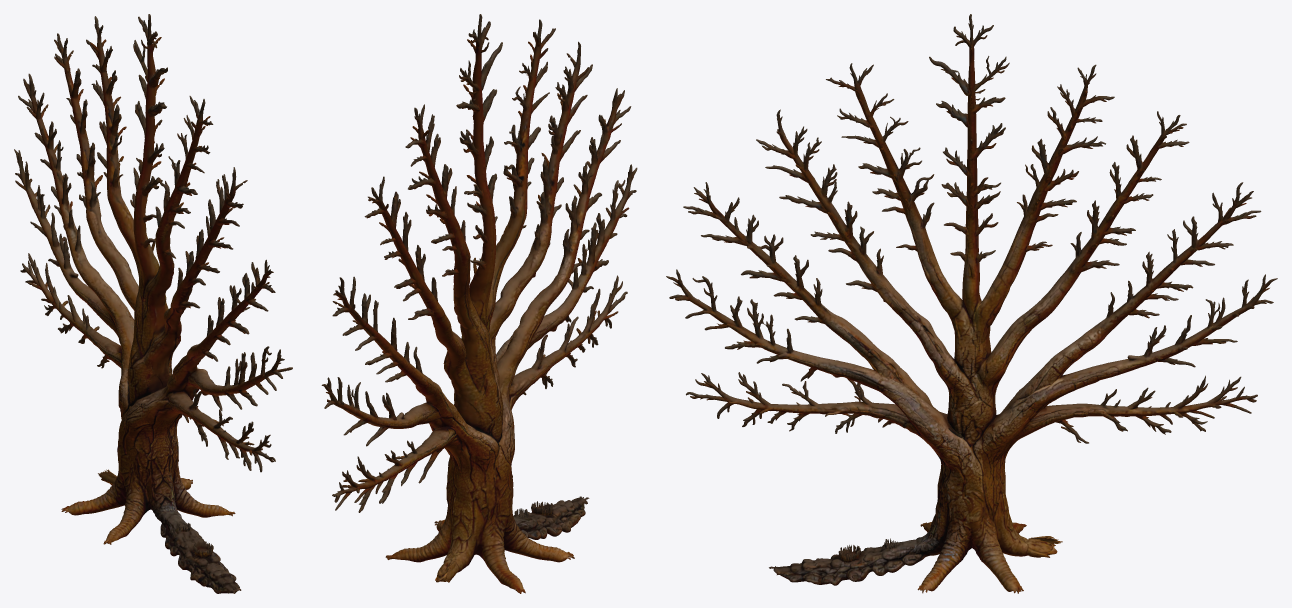
File: tree.glb
3 views of the same model, side by side, from view 1: azimuth 30°, elevation 25°; view 2: azimuth 150°, elevation 25°; view 3: azimuth 270°, elevation 25° (orthographic). The views are drawn at different scales.
Parts seen in each view (by area): view 1: tripo_node_4d76c954-95a3-489c-b6ce-834b8cbffcaa; view 2: tripo_node_4d76c954-95a3-489c-b6ce-834b8cbffcaa; view 3: tripo_node_4d76c954-95a3-489c-b6ce-834b8cbffcaa.
Boxes of the visible parts, box(x1,y1,x2,y2) form: tripo_node_4d76c954-95a3-489c-b6ce-834b8cbffcaa: box(14, 14, 292, 593); tripo_node_4d76c954-95a3-489c-b6ce-834b8cbffcaa: box(321, 14, 637, 593); tripo_node_4d76c954-95a3-489c-b6ce-834b8cbffcaa: box(666, 14, 1277, 593).
Size of the model in its own units: 0.2593 by 0.9755 by 0.9566.
Materials: 1 (1 with a texture image).
